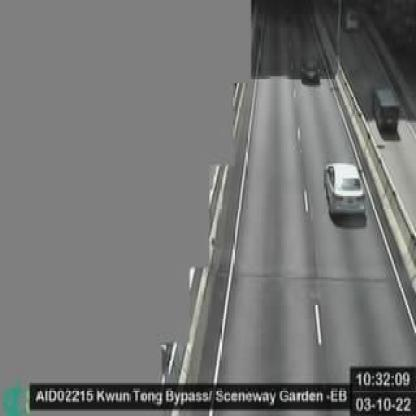Car: (322, 161, 366, 217), (298, 54, 321, 86)
Truck: (370, 87, 398, 137)
